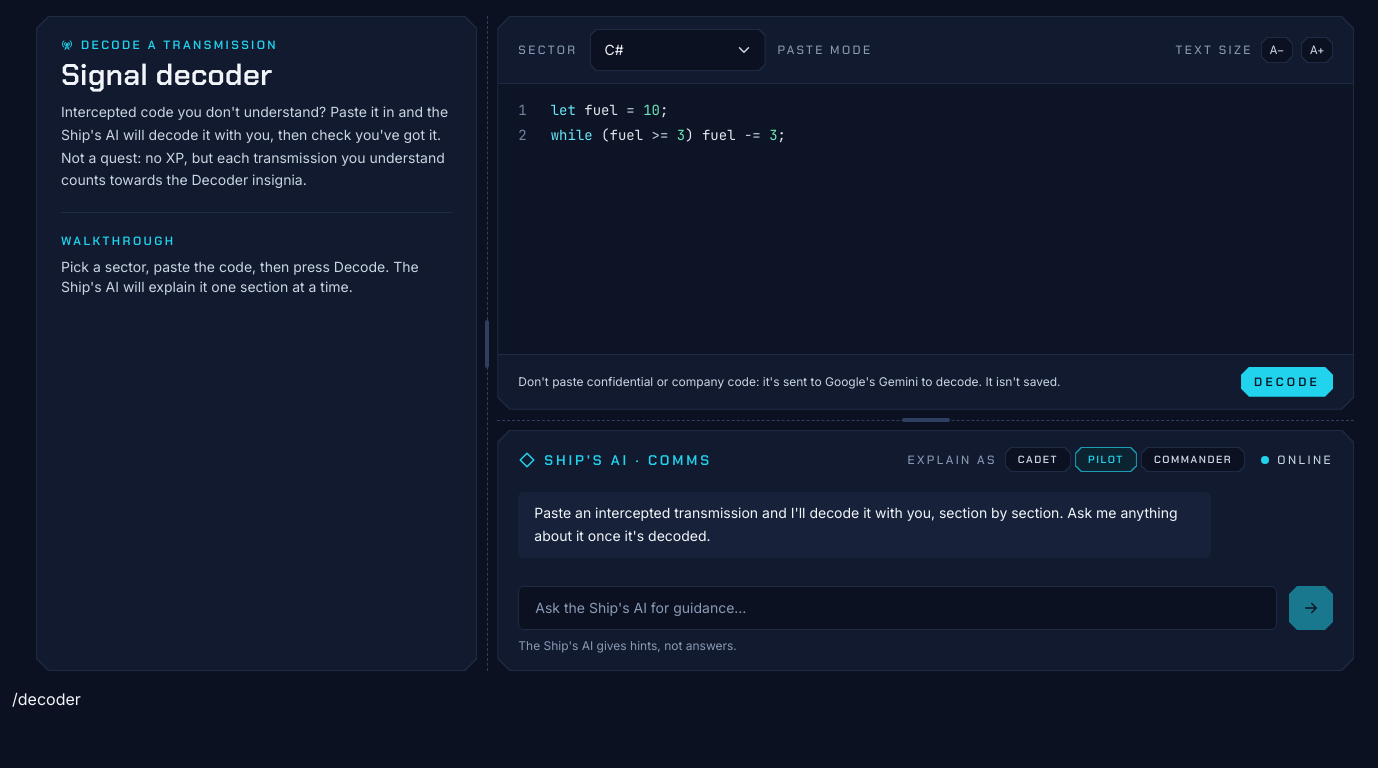
Test: DecoderPage › shows why a decode failed
Click the button "Decode": (1287, 382) 1241,367 -> 1333,397
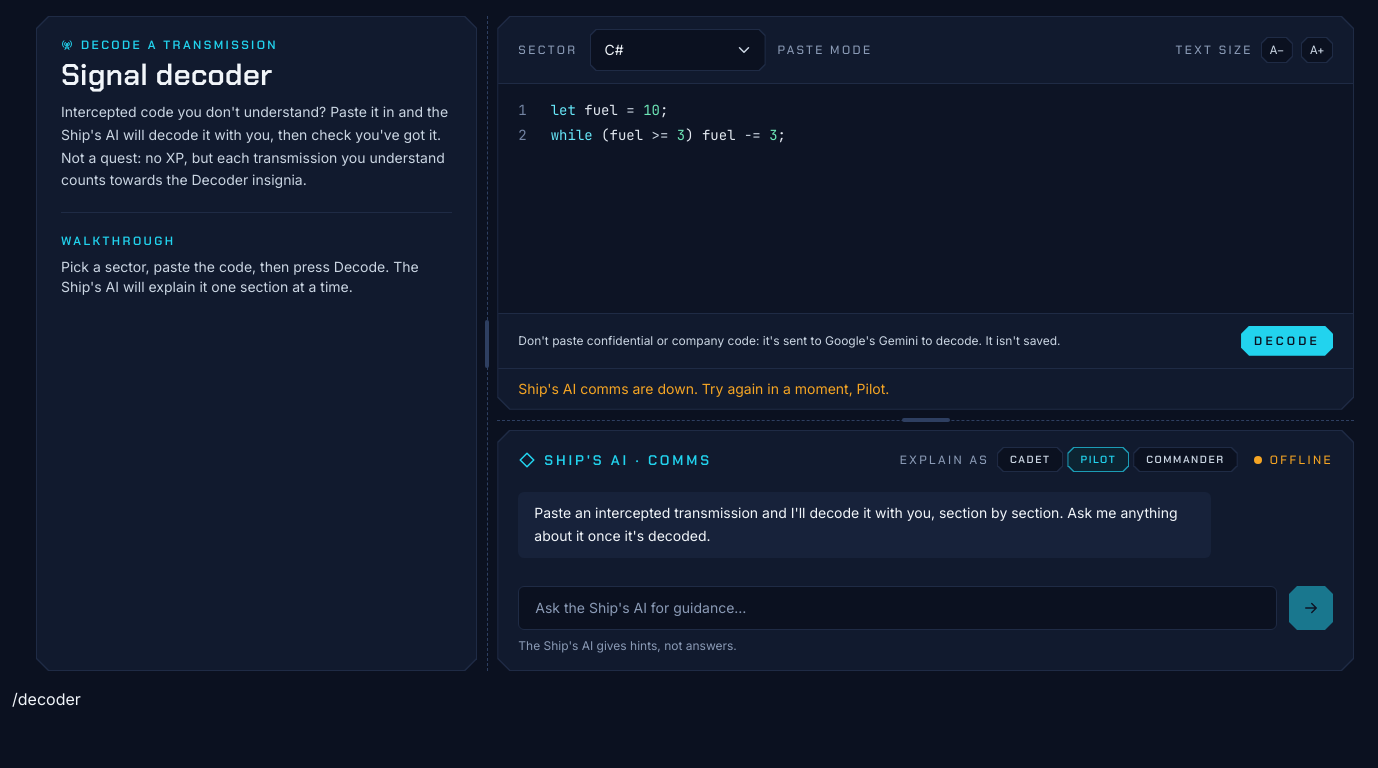
Now the message shows "Ship's AI comms are down", box 518,380 -> 889,397
Now the text "Offline" is shown, box 1254,452 -> 1333,468
